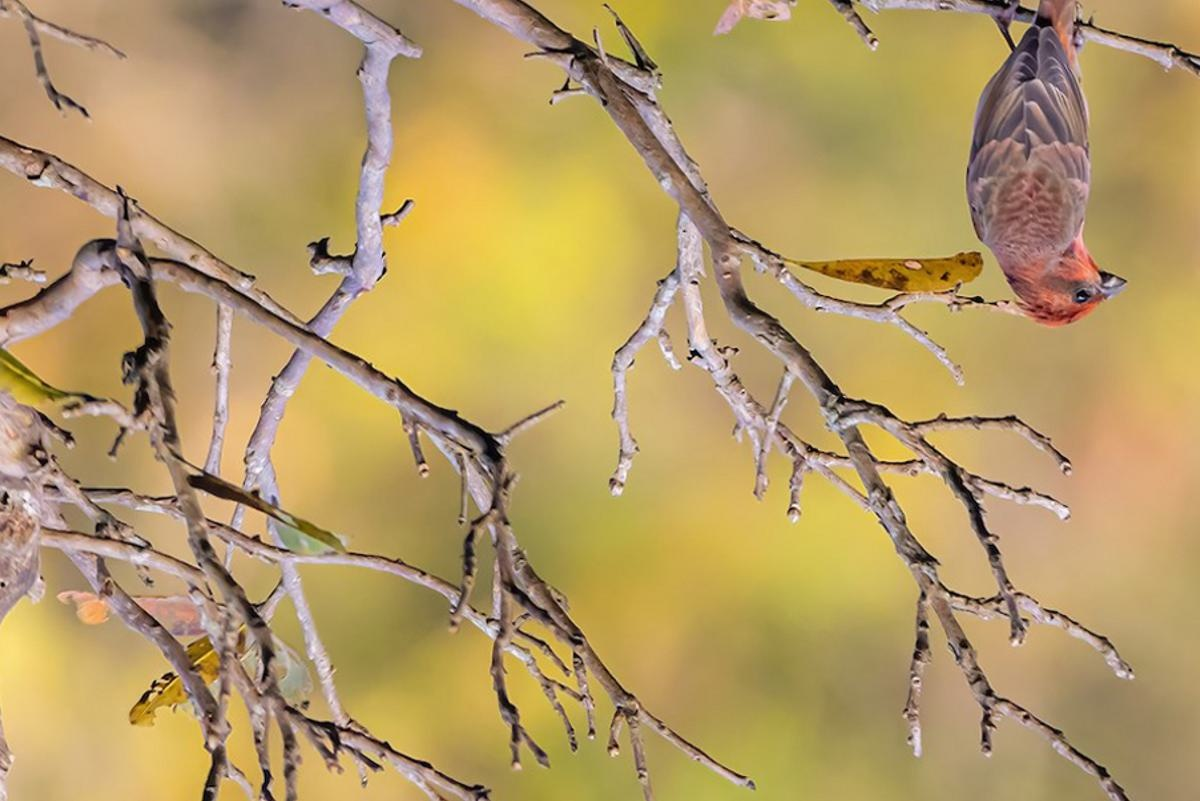rosefinch: (967, 32, 1137, 335)
